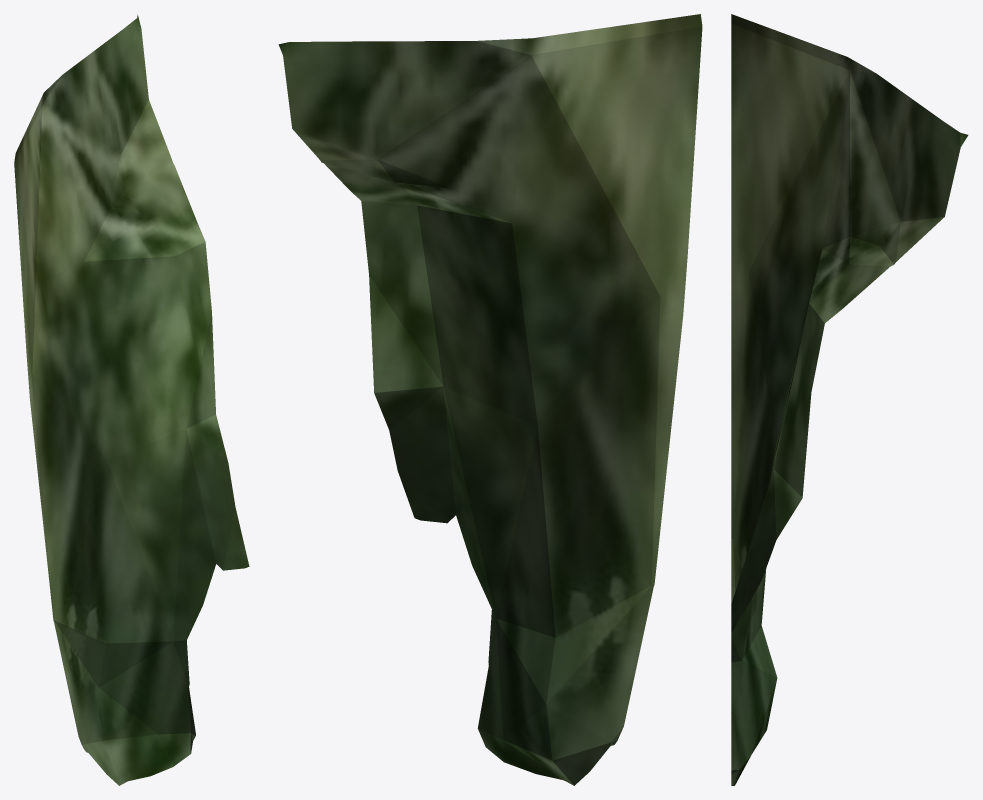
3 renders of one model, left to right at view 1: azimuth 30°, elevation 25°; view 2: azimuth 150°, elevation 25°; view 3: azimuth 270°, elevation 25°, orthographic. The views are drawn at different scales.
Size of the model in its own units: 0.7715 by 2.06 by 0.6356.
Materials: 1 (1 with a texture image).
